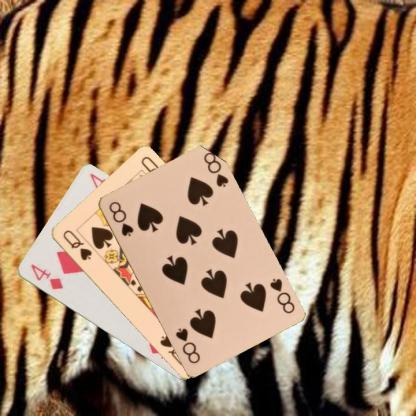4d: (28, 261, 64, 291)
8s: (266, 275, 296, 315), (106, 198, 134, 238)
Qs: (60, 227, 93, 262)
